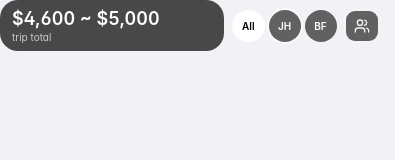
Scenario: TravellerBar › says 'you pay' rather than naming the signed-in traveller
Click the button with aria-label "Jason Hume (you)". click: (284, 26)
box: [268,10,300,42]
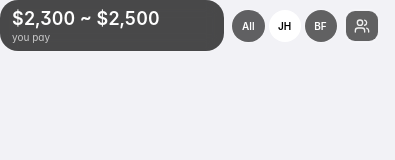
Check: the text "you pay" is shown, box [12,30,50,42]
